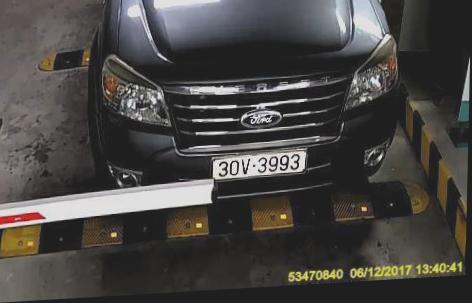License_Plate: (211, 146, 313, 182)
